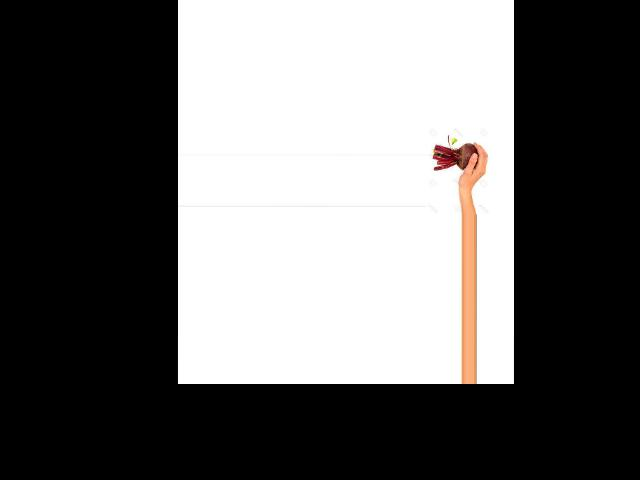beet: (432, 134, 478, 169)
